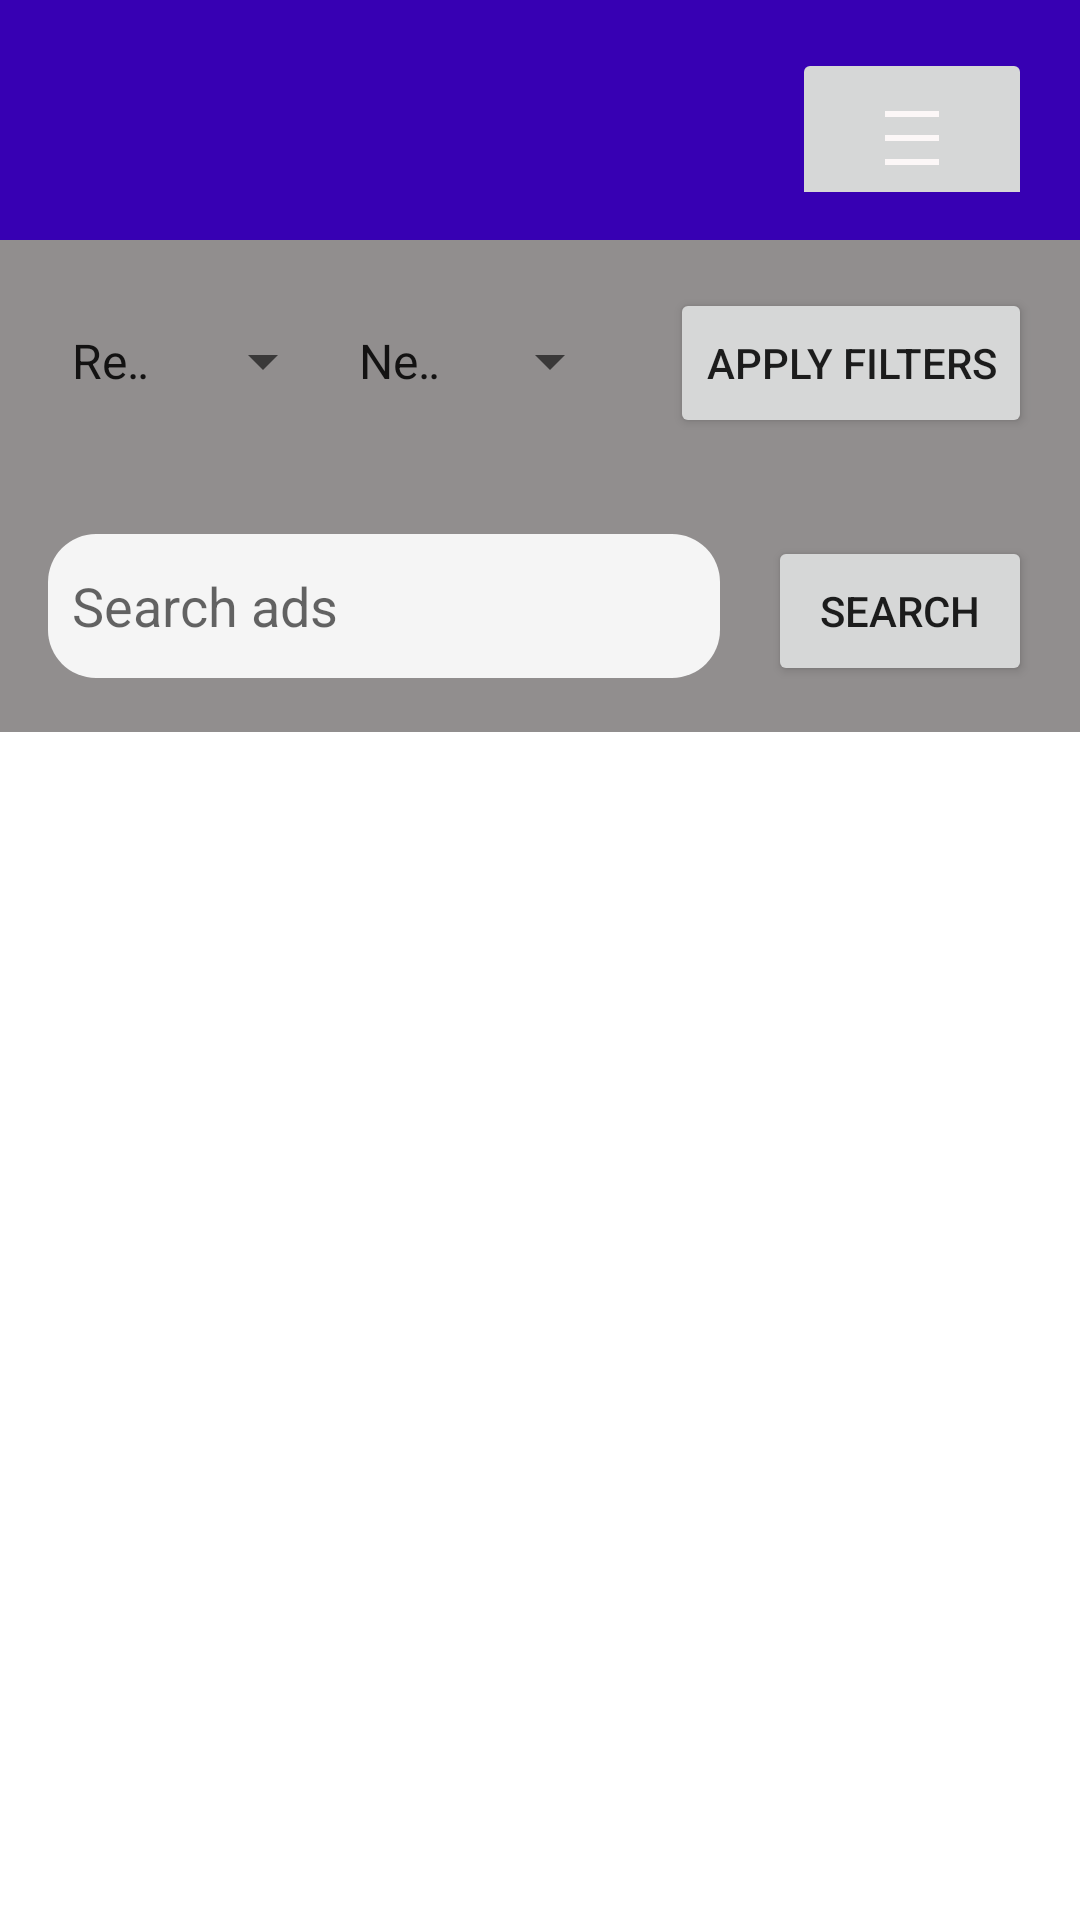

Icons on this 1080 x 1920 Android screen, each with the point to tap as point (x, y):
Menu: point (912, 129)
